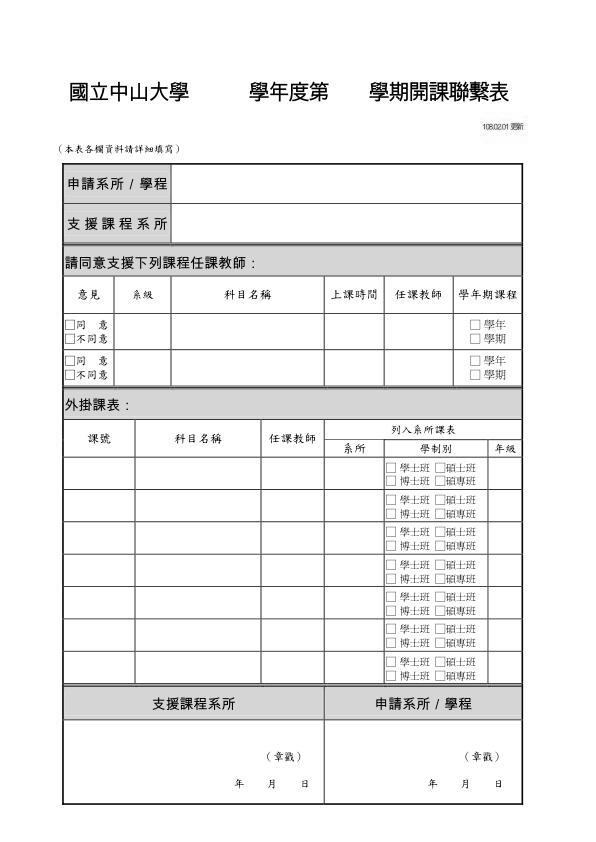table: (58, 160, 529, 811)
text: (62, 76, 516, 106), (52, 140, 184, 156), (478, 119, 529, 135)
